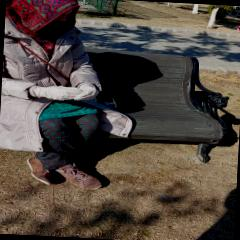gloved: (34, 86, 80, 100), (78, 84, 99, 101)
